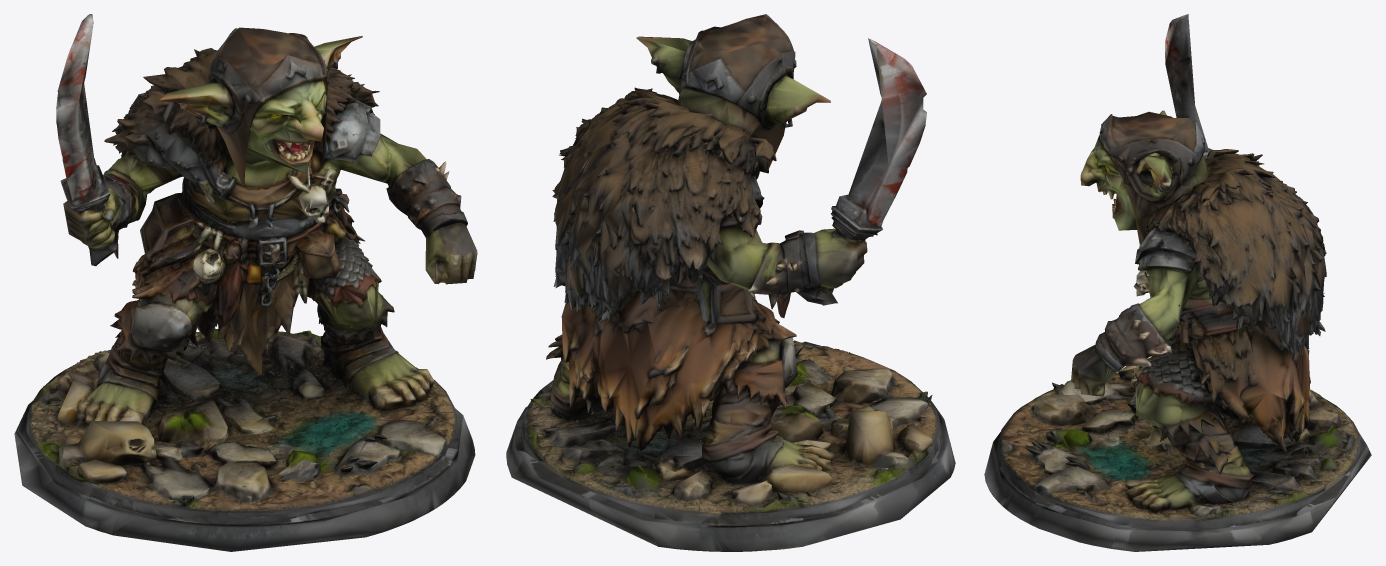
Rendered from Meshy_AI_Goblin_Male_1026221232_texture.glb.
3 views of the same model, side by side, from view 1: azimuth 30°, elevation 25°; view 2: azimuth 150°, elevation 25°; view 3: azimuth 270°, elevation 25° (orthographic). The views are drawn at different scales.
Size of the model in its own units: 1.74 by 1.99 by 1.76.
Materials: 1 (1 with a texture image).
